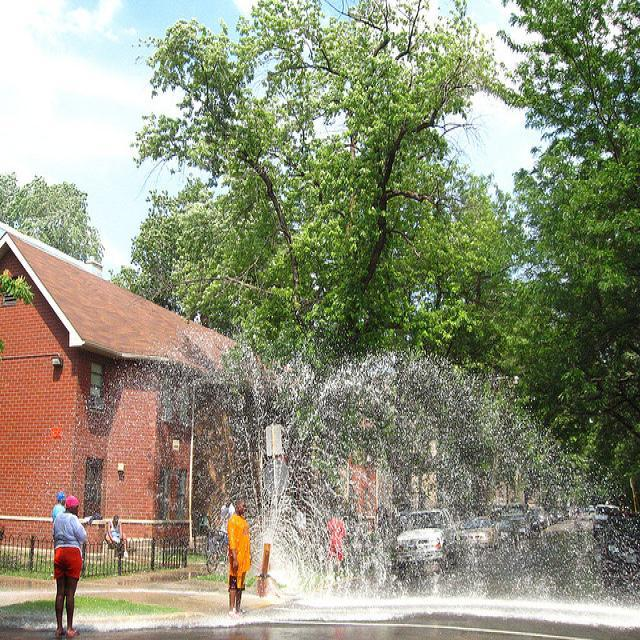fire_hydrant: (258, 542, 270, 594)
